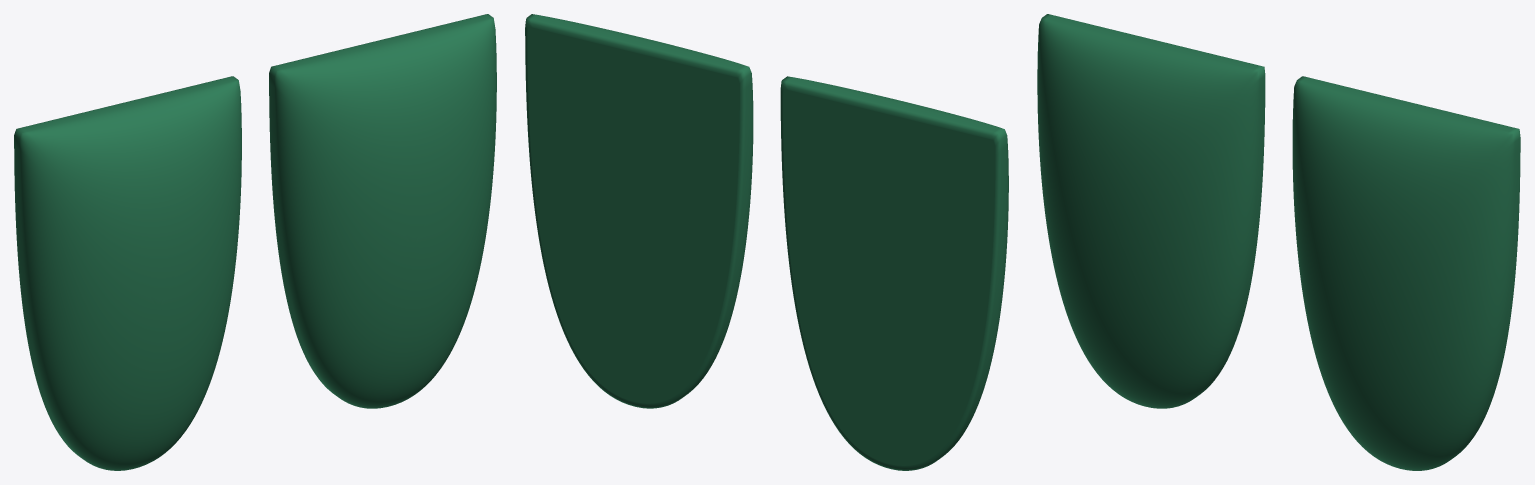
Rendered from matched-pair-v1.glb.
3 renders of one model, left to right at view 1: azimuth 30°, elevation 25°; view 2: azimuth 150°, elevation 25°; view 3: azimuth 330°, elevation 25°, orthographic.
Parts seen in each view (by area): view 1: Tongue Cabochon 22x14x4mm.001, Tongue Cabochon 22x14x4mm; view 2: Tongue Cabochon 22x14x4mm.001, Tongue Cabochon 22x14x4mm; view 3: Tongue Cabochon 22x14x4mm, Tongue Cabochon 22x14x4mm.001.
Boxes of the visible parts, x1,y1,x2,y2 form: Tongue Cabochon 22x14x4mm.001: [269, 14, 496, 408]; Tongue Cabochon 22x14x4mm: [14, 76, 241, 470]; Tongue Cabochon 22x14x4mm.001: [525, 14, 753, 408]; Tongue Cabochon 22x14x4mm: [780, 76, 1008, 470]; Tongue Cabochon 22x14x4mm: [1037, 14, 1265, 408]; Tongue Cabochon 22x14x4mm.001: [1292, 76, 1520, 470].
Size of the model in its own units: 0.0302 by 0.022 by 0.00398.
